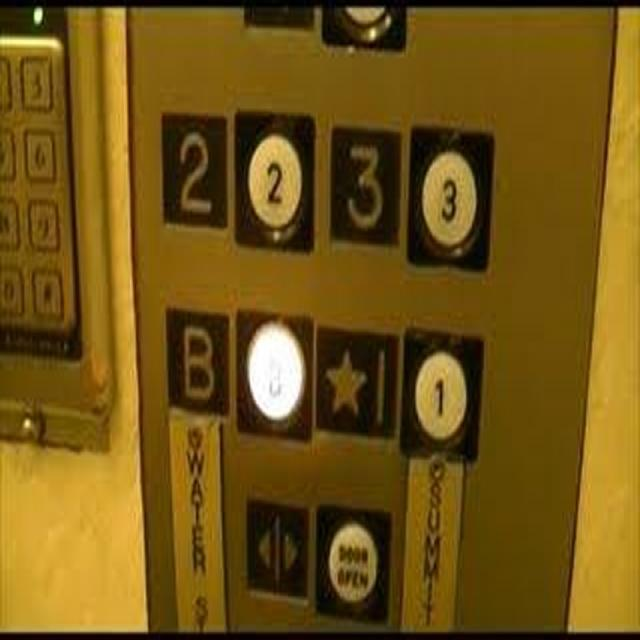1: (400, 326, 483, 458)
2: (233, 108, 314, 253), (160, 111, 228, 228)
3: (406, 124, 494, 273), (328, 123, 401, 248), (18, 52, 52, 111)
6: (23, 127, 55, 181)
9: (28, 199, 58, 249)
B: (165, 303, 230, 420)
blur: (236, 308, 312, 441), (32, 268, 62, 316)
open: (246, 498, 309, 602)
s1: (314, 321, 398, 439)
text_open door: (314, 500, 390, 624)
